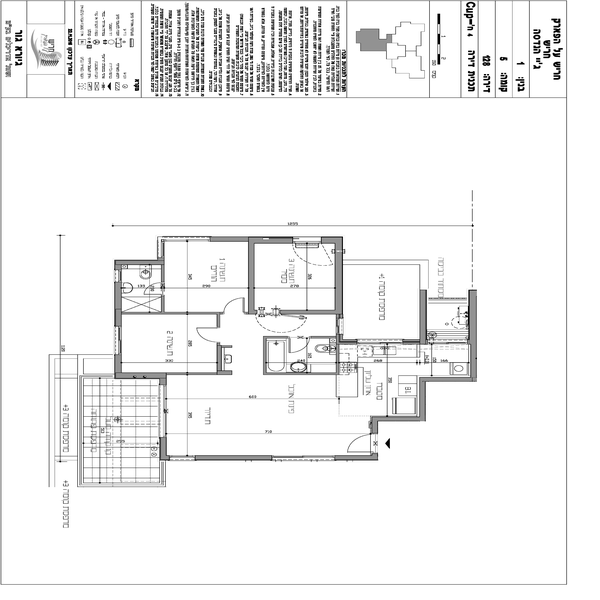door: (344, 433, 379, 459), (225, 295, 248, 316), (294, 234, 322, 251), (197, 324, 220, 344), (292, 340, 312, 358)
room: (151, 365, 382, 467), (157, 234, 257, 325), (247, 231, 348, 319), (111, 310, 231, 376), (415, 291, 481, 385)
wall: (468, 289, 484, 379), (330, 233, 345, 322), (245, 235, 258, 314), (216, 234, 292, 246), (418, 284, 433, 344), (125, 307, 224, 316), (192, 453, 275, 463), (116, 369, 167, 384), (111, 281, 127, 328), (280, 309, 339, 320), (334, 452, 377, 466), (418, 376, 431, 420), (367, 413, 421, 423), (119, 258, 160, 270), (157, 434, 168, 462), (113, 354, 123, 382), (216, 343, 225, 374)
window: (270, 453, 333, 464), (355, 334, 400, 348), (156, 383, 169, 426)
